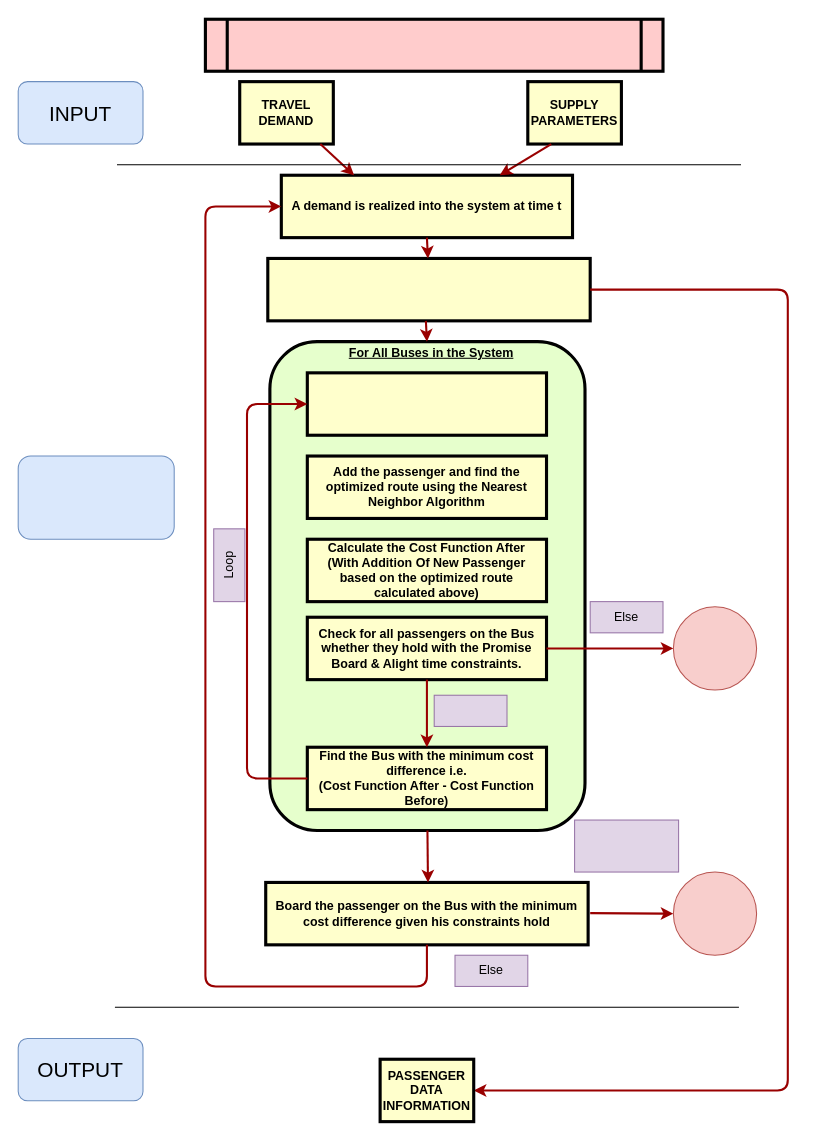
The diagram is 815 pixels wide and 1141 high, and some of its shapes have lost their labels. Here are the shapes that lost their labels. From the top down, the centre of each, then its label:
At point 433,44: "ON DEMAND PUBLIC TRANSPORT".
At point 428,289: "Alight the Passengers whose Expected Alight Time was before time t".
At point 426,403: "Calculate the Cost Function Before (Without Addition Of New Passenger)".
At point 95,497: "DYNAMIC SIMULATOR".
At point 714,648: "Reject that Bus for that Passenger".
At point 470,710: "If constraint holds".
At point 626,845: "If all the Buses break the constraint".
At point 714,913: "Reject Passenger".
